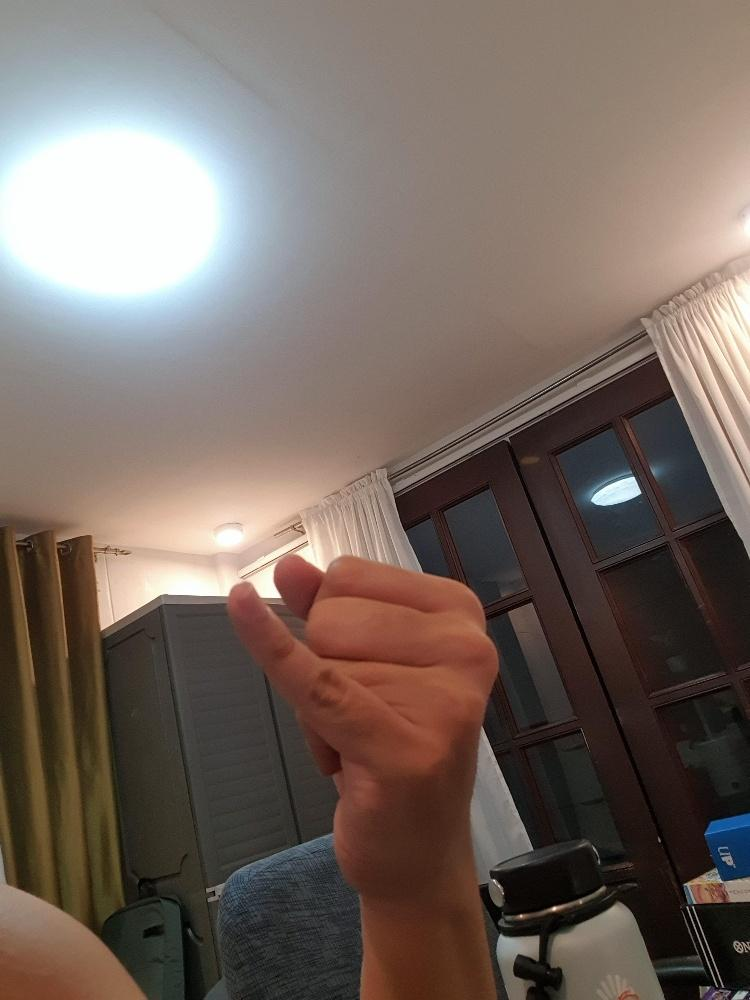j: (224, 548, 503, 912)
